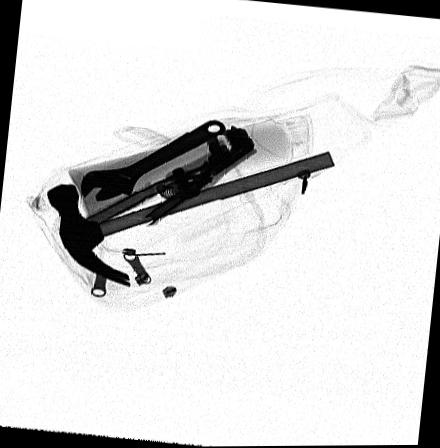Hammer: (45, 150, 337, 289)
Pliers: (72, 125, 265, 235)
Wrench: (82, 120, 226, 201)
